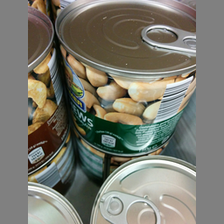nuts: (55, 1, 195, 155)
